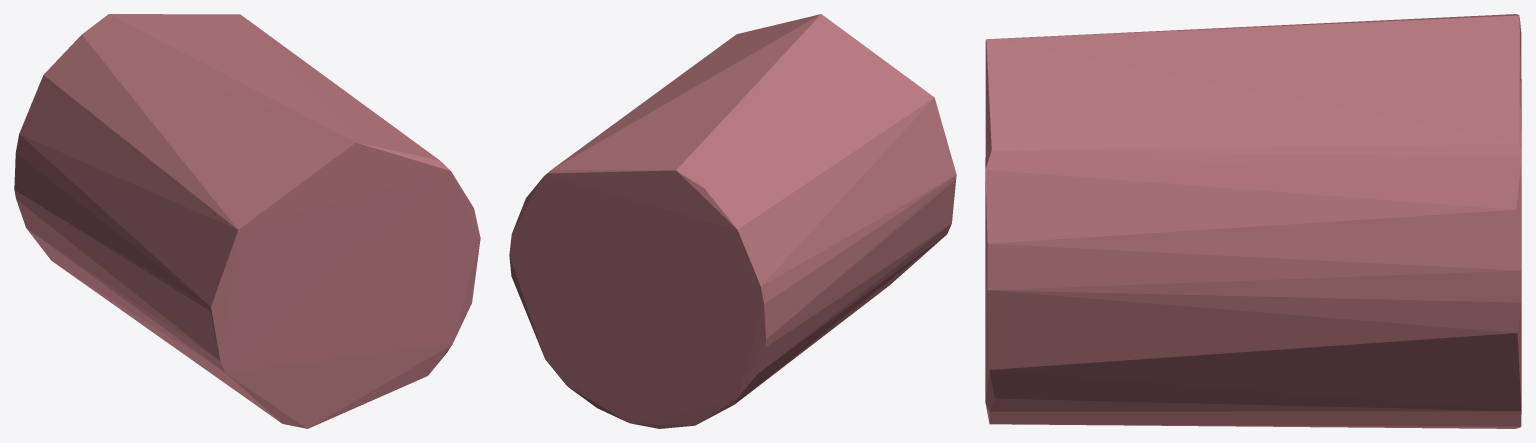
The model's file is food_canned_soup_a01.glb.
The picture shows the model from 3 angles, left to right: view 1: azimuth 30°, elevation 25°; view 2: azimuth 150°, elevation 25°; view 3: azimuth 270°, elevation 25°; orthographic projection. The views are drawn at different scales.
Parts seen in each view (by area): view 1: geometry_0; view 2: geometry_0; view 3: geometry_0.
Boxes of the visible parts, box(x1,y1,x2,y2) form: geometry_0: box(14, 14, 480, 428); geometry_0: box(509, 14, 956, 428); geometry_0: box(985, 14, 1521, 428).
Size of the model in its own units: 0.3702 by 0.3695 by 0.4785.
